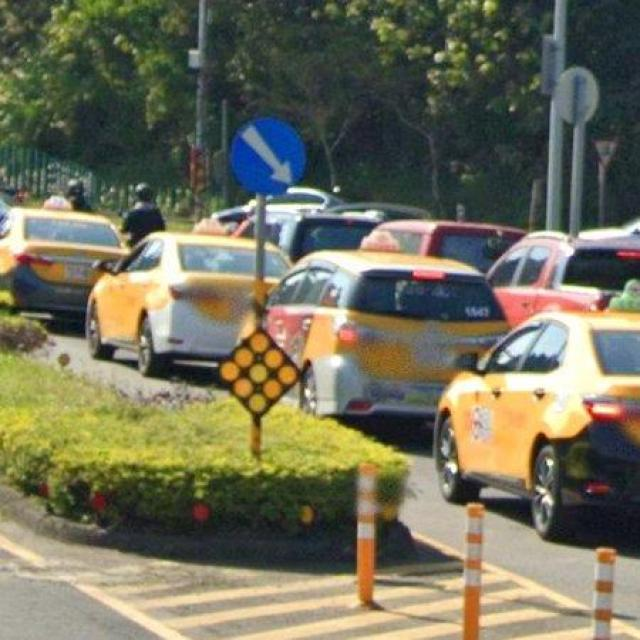Fire: (435, 314, 640, 541), (85, 233, 256, 375), (0, 209, 127, 315)
Taxi: (266, 250, 511, 416)
